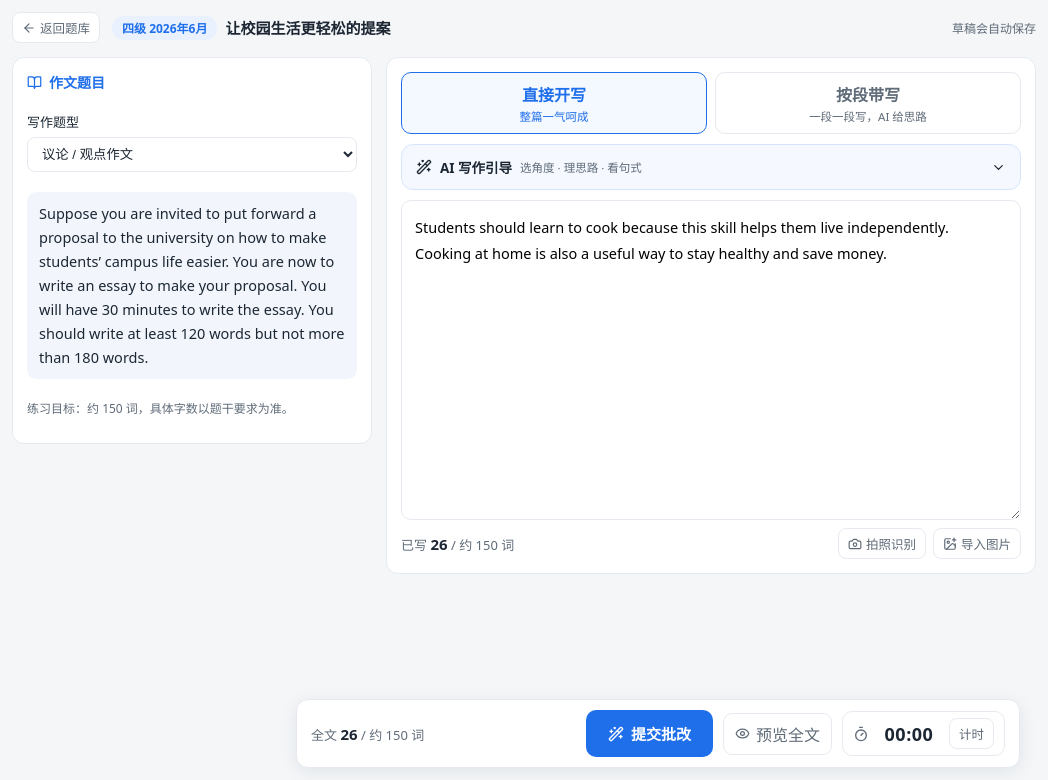
Scenario: writing workspace › keeps each topic draft separate and restores it on returning to that topic
Click the button "返回题库" at (56, 28), box 12,12 -> 100,43
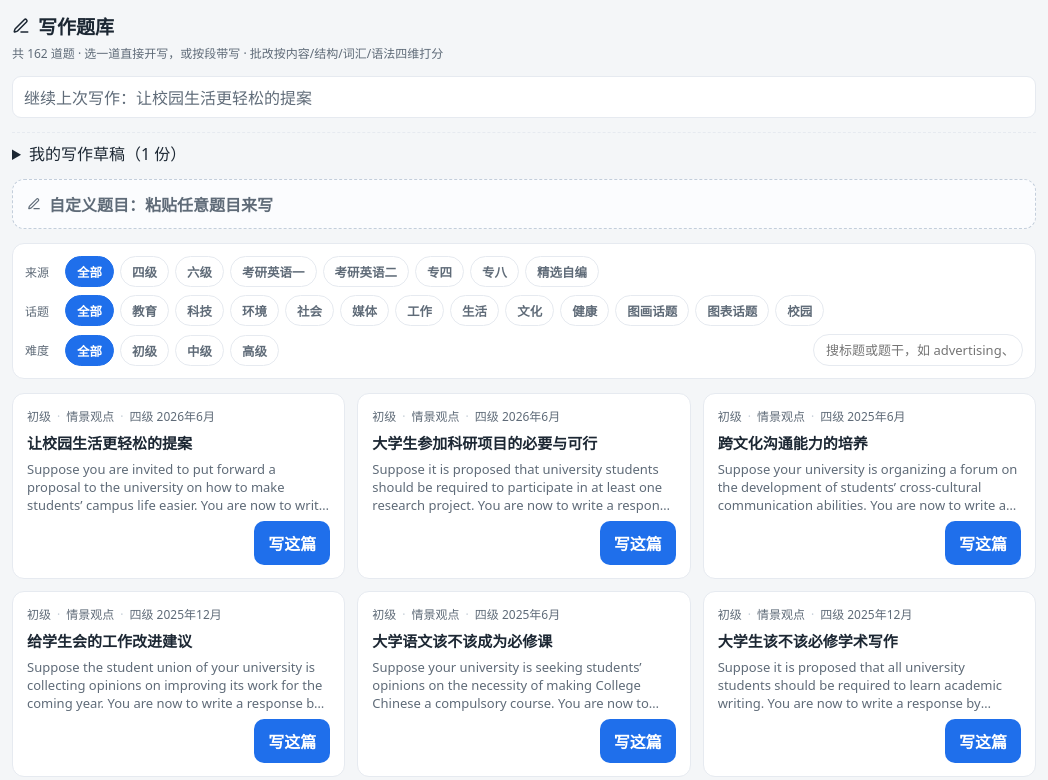
Click the button "写这篇" below "大学生参加科研项目的必要与可行" at (638, 543), box 600,521 -> 676,565
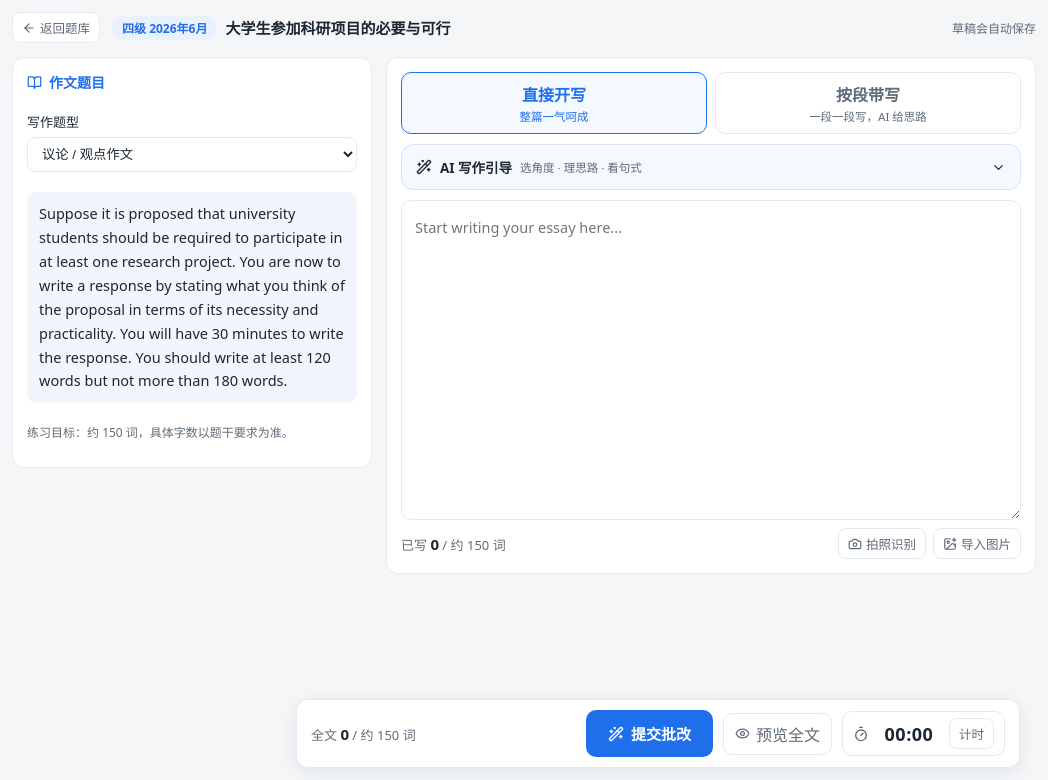
Now the text box named "我的作文" is empty
Type "Another essay." into the text box named "我的作文" at (711, 360), box 401,200 -> 1021,520
Click the button "返回题库" at (56, 28), box 12,12 -> 100,43
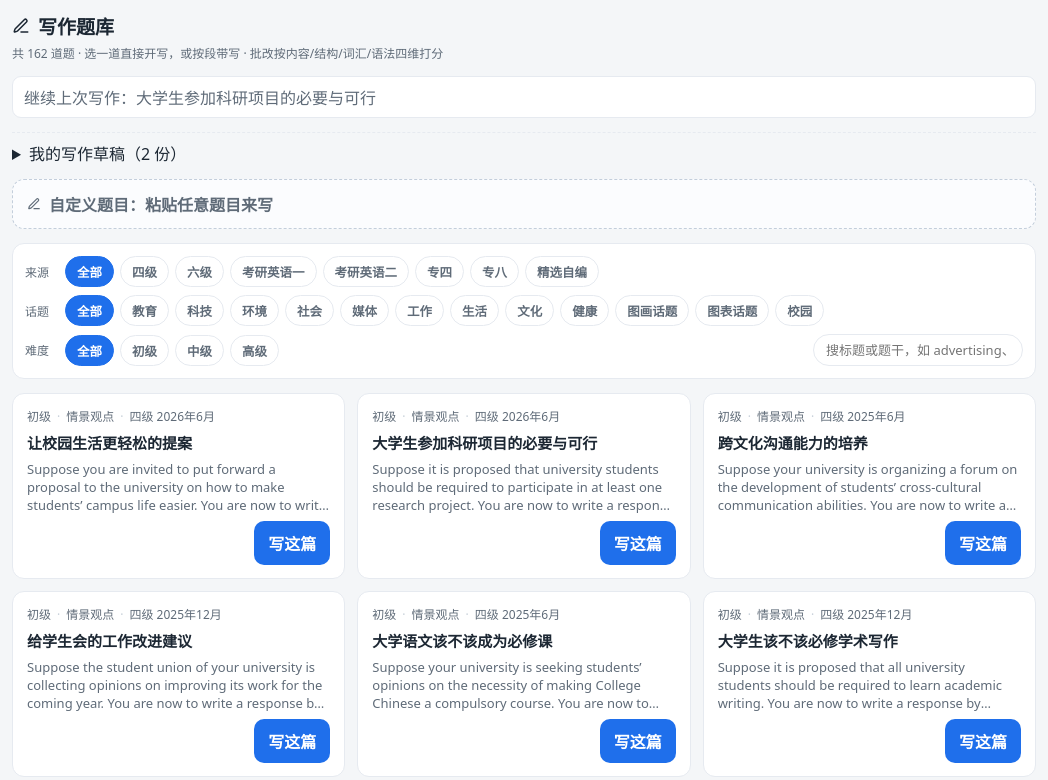
Click the button "写这篇" below "让校园生活更轻松的提案" at (292, 543), box 254,521 -> 330,565
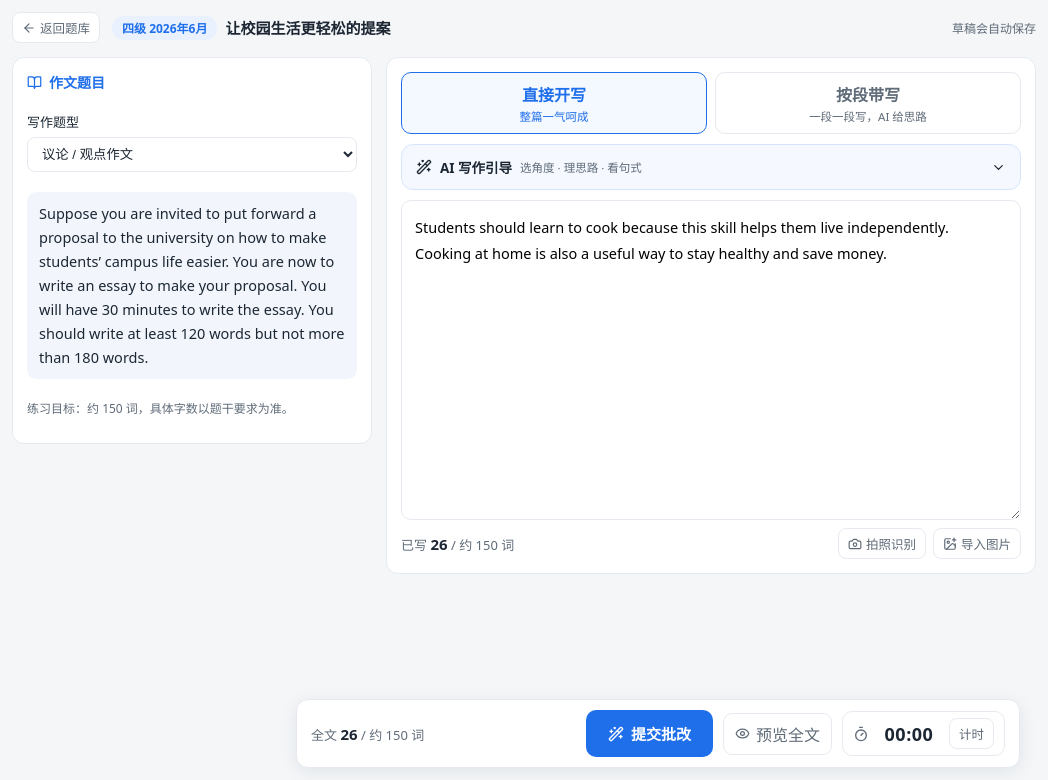
Now the text box named "我的作文" holds "Students should learn to cook because this skill helps them live independently. Cooking at home is also a useful way to stay healthy and save money.", box 401,200 -> 1021,520
Click the button "返回题库" at (56, 28), box 12,12 -> 100,43
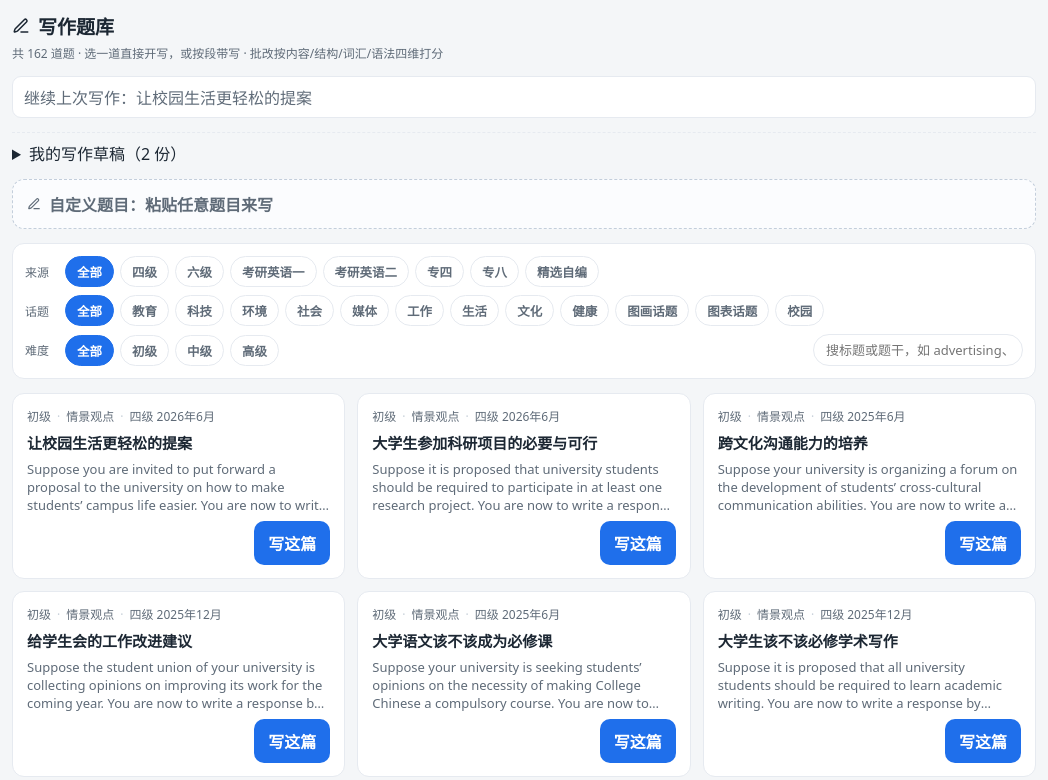
Click the button "写这篇" below "大学生参加科研项目的必要与可行" at (638, 543), box 600,521 -> 676,565
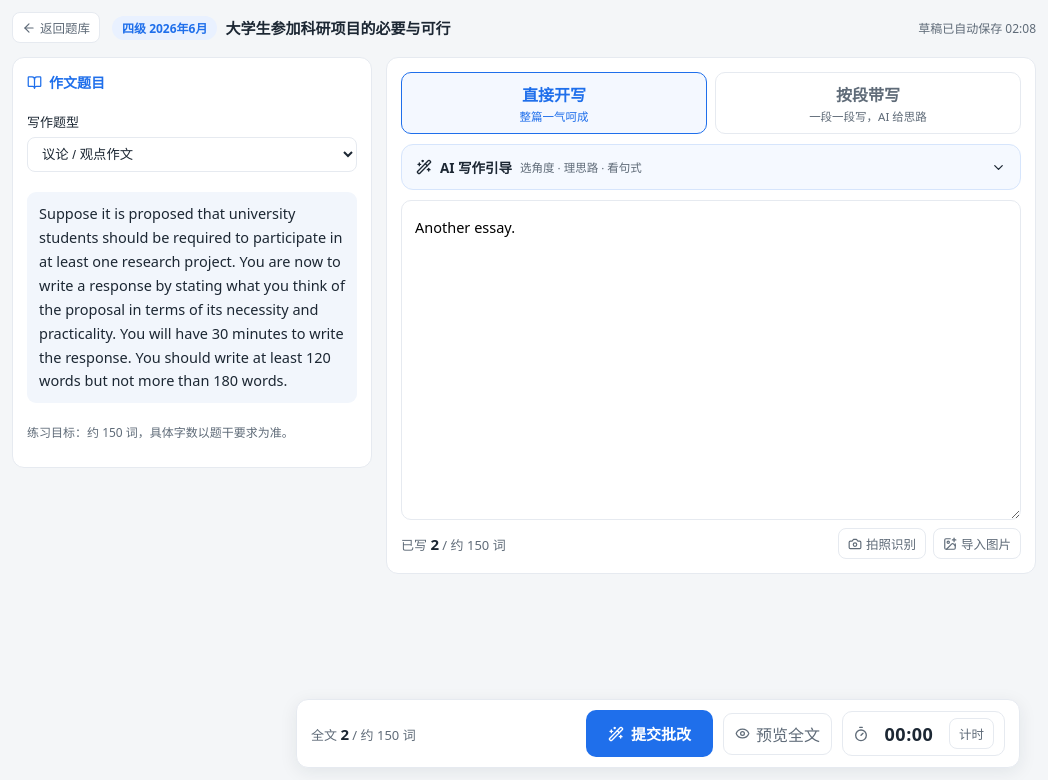
Now the text box named "我的作文" holds "Another essay.", box 401,200 -> 1021,520
